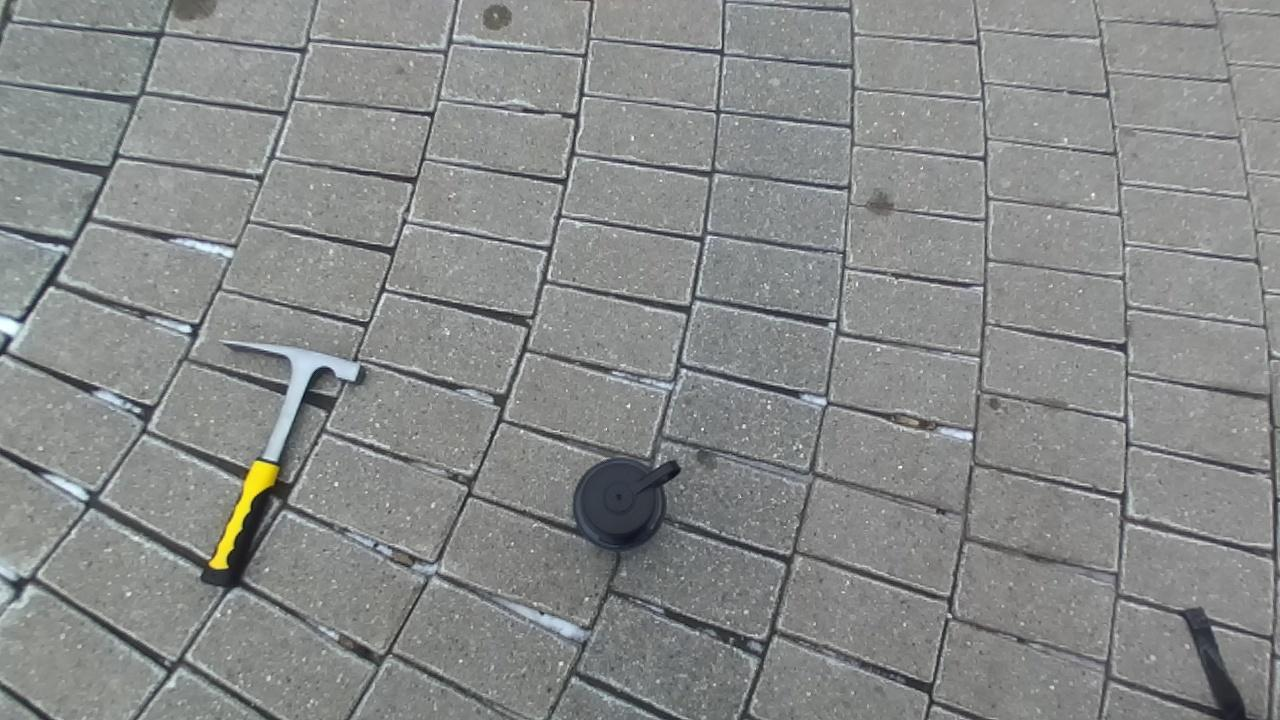bottle: (573, 458, 680, 549)
pick: (202, 341, 360, 586)
